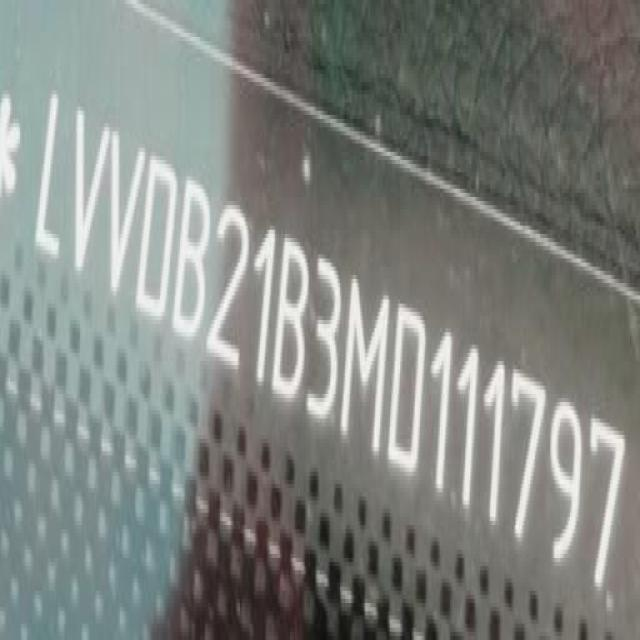1: (428, 322, 456, 508), (454, 336, 481, 523), (250, 218, 277, 398), (482, 352, 506, 540)
2: (210, 196, 250, 378)
3: (310, 248, 344, 432)
7: (588, 411, 632, 608), (509, 365, 549, 556)
9: (544, 393, 586, 576)
B: (175, 171, 215, 352), (274, 230, 312, 414)
D: (390, 293, 431, 488), (138, 149, 179, 333)
L: (35, 87, 73, 273)
M: (340, 271, 390, 466)
V: (70, 104, 113, 294), (105, 124, 147, 314)
